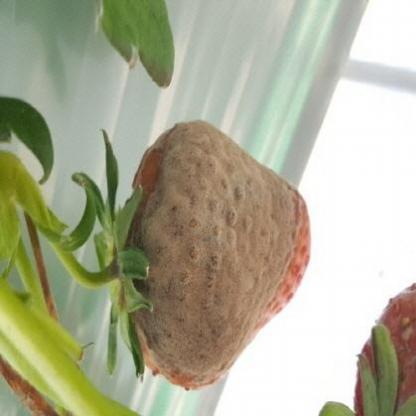Strawberry_Gray_Mold: (124, 119, 313, 393)
